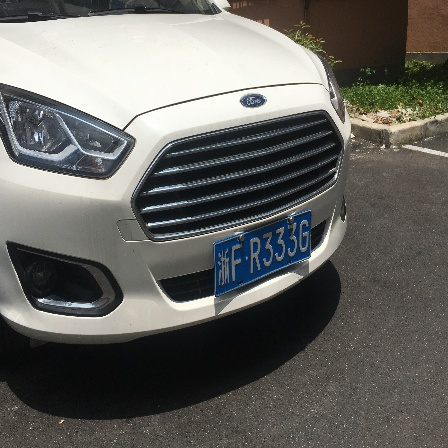plate: (212, 219, 312, 289)
